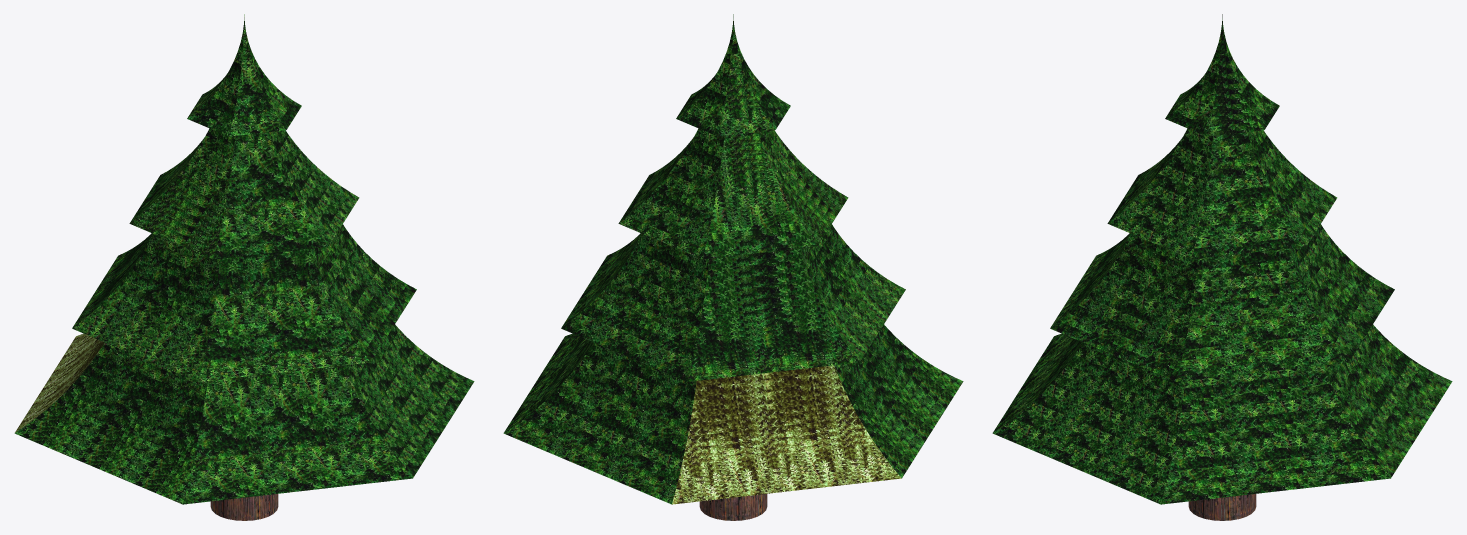
The model's file is tree.dae.
3 views of the same model, side by side, from view 1: azimuth 30°, elevation 25°; view 2: azimuth 150°, elevation 25°; view 3: azimuth 270°, elevation 25° (orthographic).
Parts seen in each view (by area): view 1: Model; view 2: Model; view 3: Model.
Part boxes in pixels (bbox=[...]): Model: bbox=[14, 14, 474, 520]; Model: bbox=[503, 14, 963, 520]; Model: bbox=[992, 14, 1452, 520].
Bounding box in the file's own units: 2.63 × 2.63 × 3.11.
Materials: 4 (3 with a texture image).
